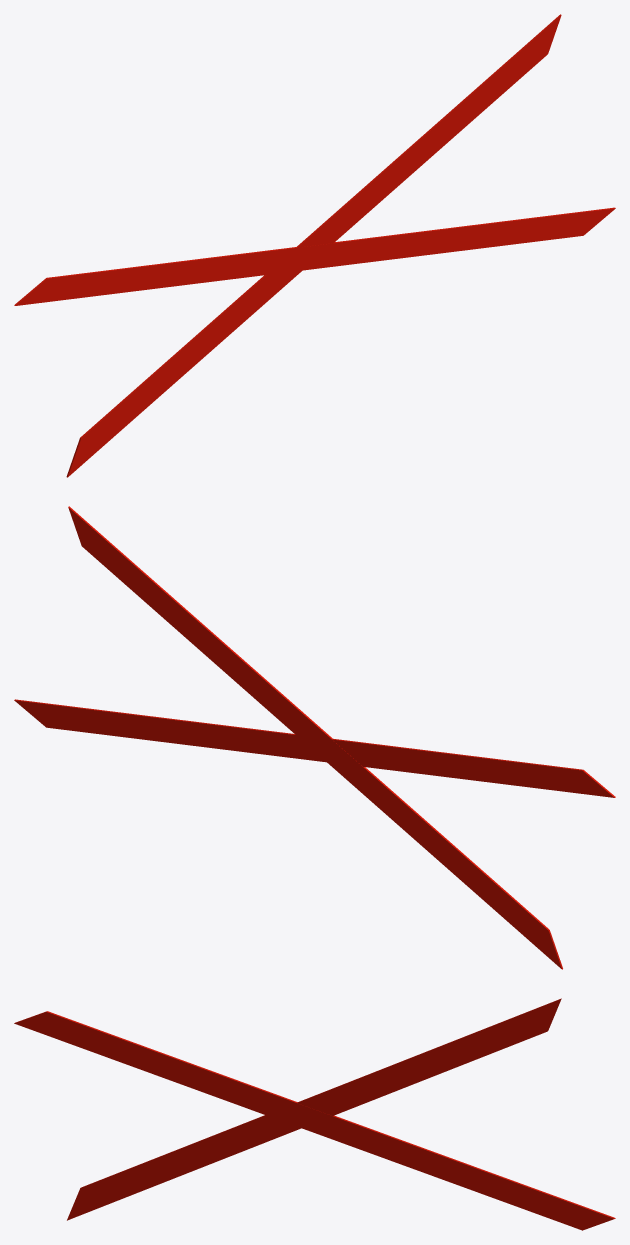
Rendered from nastri_colorati.fbx.
3 renders of one model, top to bottom at view 1: azimuth 30°, elevation 25°; view 2: azimuth 150°, elevation 25°; view 3: azimuth 330°, elevation 25°, orthographic.
Parts seen in each view (by area): view 1: Cube_1_2, Cube_1; view 2: Cube_1, Cube_1_2; view 3: Cube_1_2, Cube_1.
Boxes of the visible parts, x1=… form: Cube_1_2: x1=14, y1=207, x2=615, y2=305; Cube_1: x1=66, y1=14, x2=561, y2=477; Cube_1: x1=68, y1=506, x2=562, y2=969; Cube_1_2: x1=14, y1=699, x2=615, y2=797; Cube_1_2: x1=14, y1=1011, x2=615, y2=1230; Cube_1: x1=67, y1=998, x2=561, y2=1220.
Bounding box in the file's own units: 19.83 × 10.79 × 0.0698.
